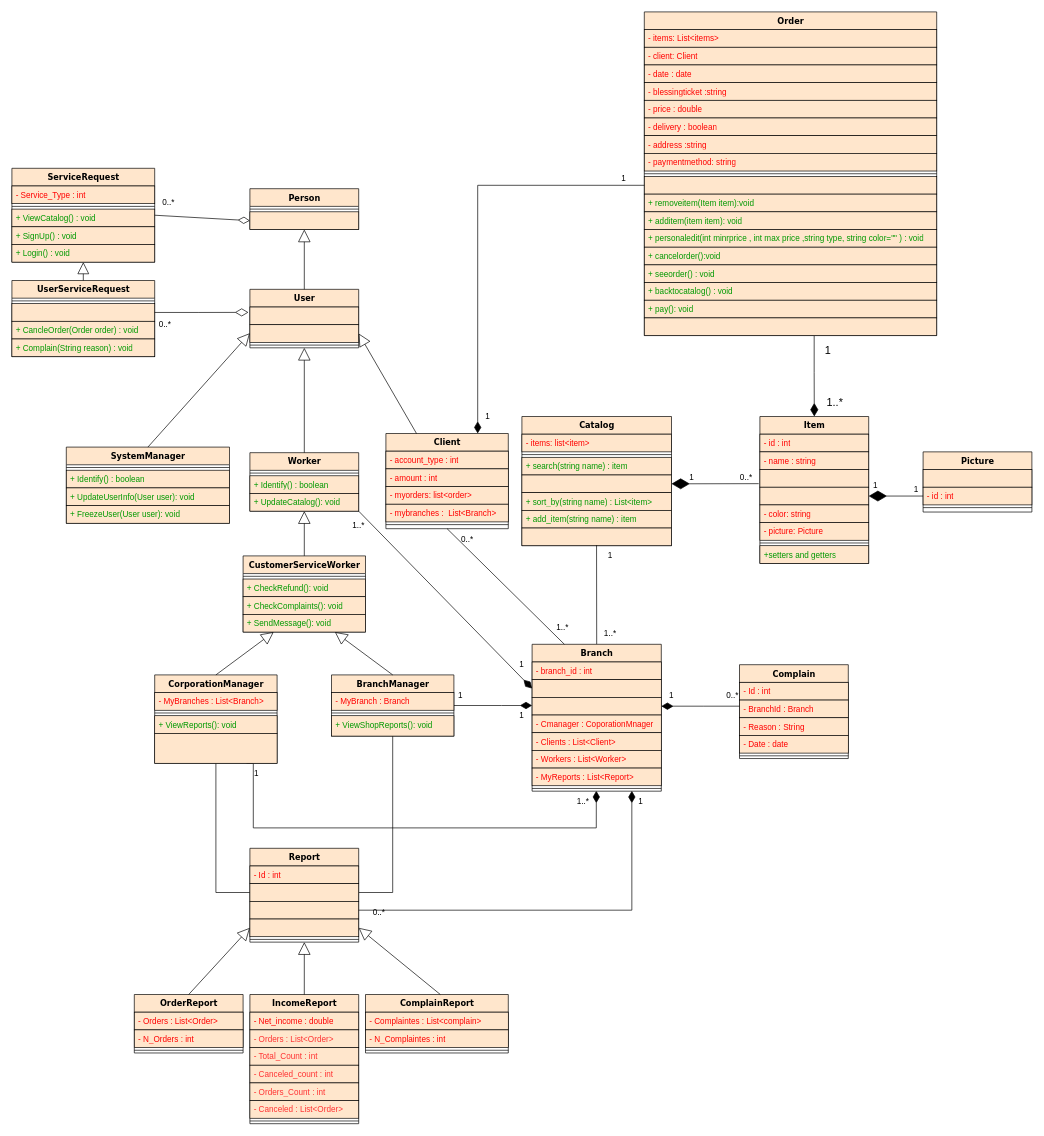
The diagram is 1044 pixels wide and 1136 high, and some of its shapes have lost their labels. Here are the shapes that lost their labels. From the top down, the centre of each, then its label:
the point at 790,185: + setters and getters
the point at 304,220: - Init_Service(int) :void
the point at 83,312: + Order(): void
the point at 304,315: - username : string
the point at 790,326: + addblessing(string blessing): void
the point at 304,333: - password : string
the point at 596,483: + filter_by(string name) : List<item>
the point at 814,478: - price: int
the point at 814,496: - type: string
the point at 977,478: - url : string
the point at 596,536: + delete_item(string name) : void
the point at 596,688: - catalog : Catalog
the point at 596,706: - Bmanager : BranchManager
the point at 215,748: + CompareReports(Report rep1, Report rep2): void
the point at 304,892: - RepBranch : Branch
the point at 304,910: - From : date
the point at 304,927: - To : date
